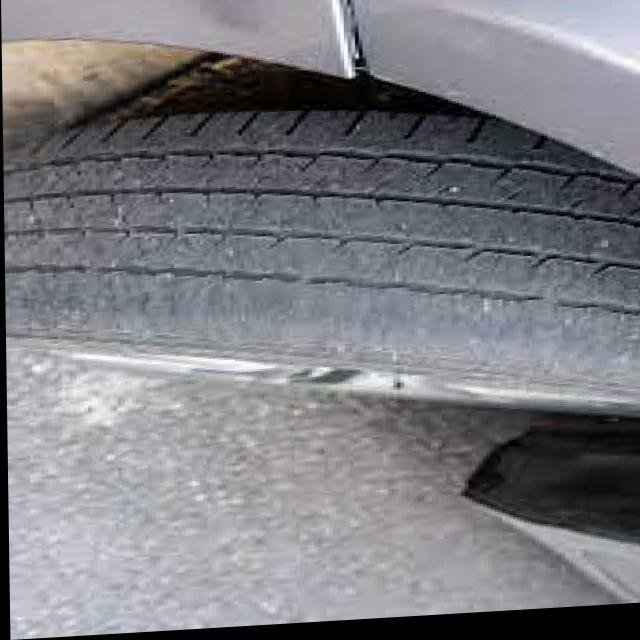Flat spots: (5, 278, 636, 336)
Non-defective: (66, 111, 487, 271)
